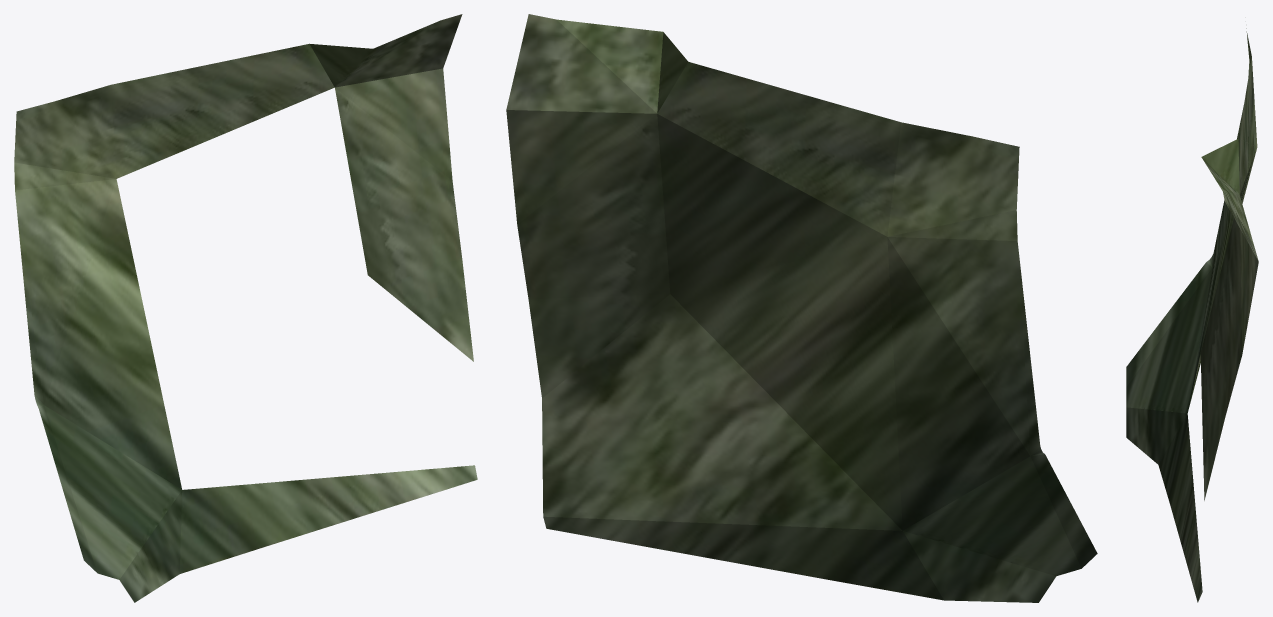
The picture shows the model from 3 angles, left to right: view 1: azimuth 30°, elevation 25°; view 2: azimuth 150°, elevation 25°; view 3: azimuth 270°, elevation 25°; orthographic projection. The views are drawn at different scales.
Size of the model in its own units: 2.95 by 2.95 by 0.8825.
Materials: 3 (3 with a texture image).
